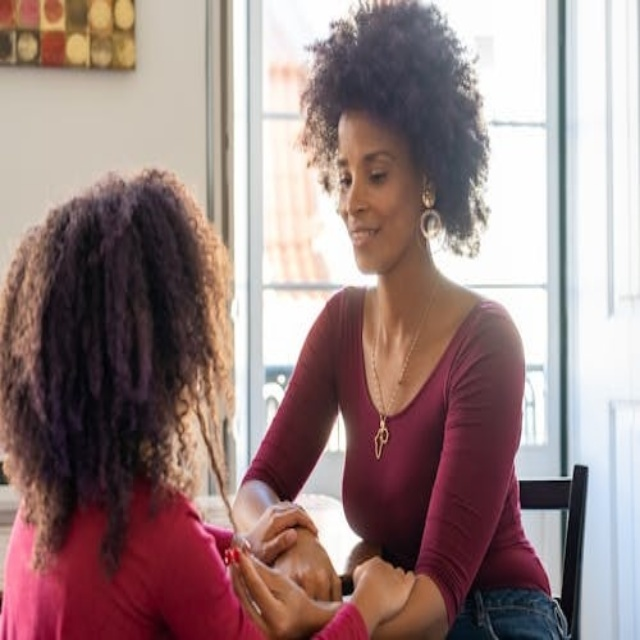Sin_gafas: (337, 148, 396, 198)
Sin_guantes: (228, 538, 335, 640), (236, 494, 320, 563), (348, 544, 410, 625)
Sin_mascara: (346, 223, 387, 271)
